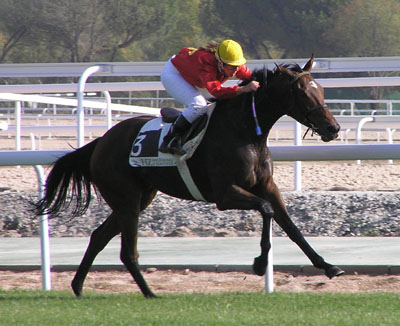person: (161, 40, 261, 156)
